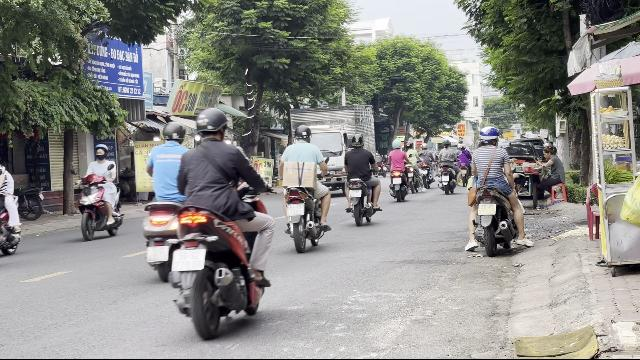helmet: (194, 106, 228, 142), (161, 120, 185, 144), (478, 125, 500, 145), (293, 124, 311, 142), (92, 142, 108, 160)
licenseplate: (172, 250, 205, 270), (146, 246, 168, 262), (478, 205, 496, 216), (288, 204, 304, 216)
motorcyclist: (168, 104, 278, 336), (462, 124, 528, 256), (140, 118, 192, 282), (277, 124, 333, 251), (74, 142, 124, 241)
